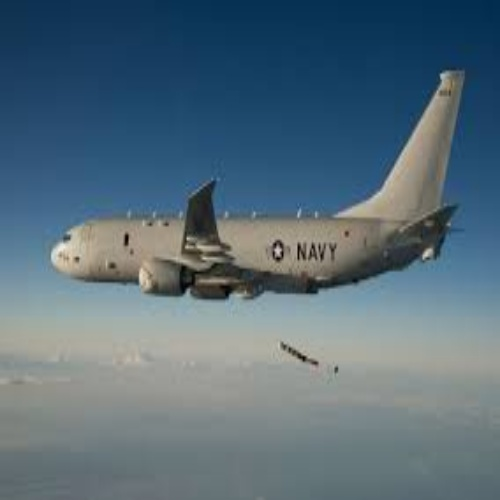uav: (47, 70, 466, 304)
